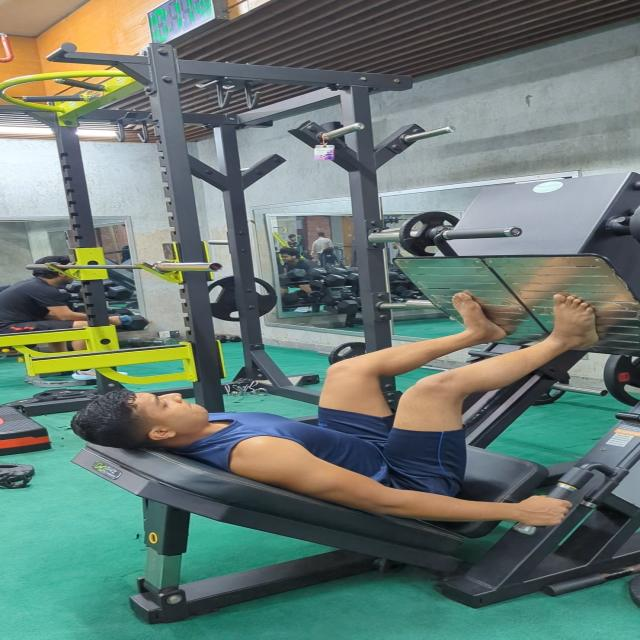Normal_LegPress: (53, 282, 634, 548)
